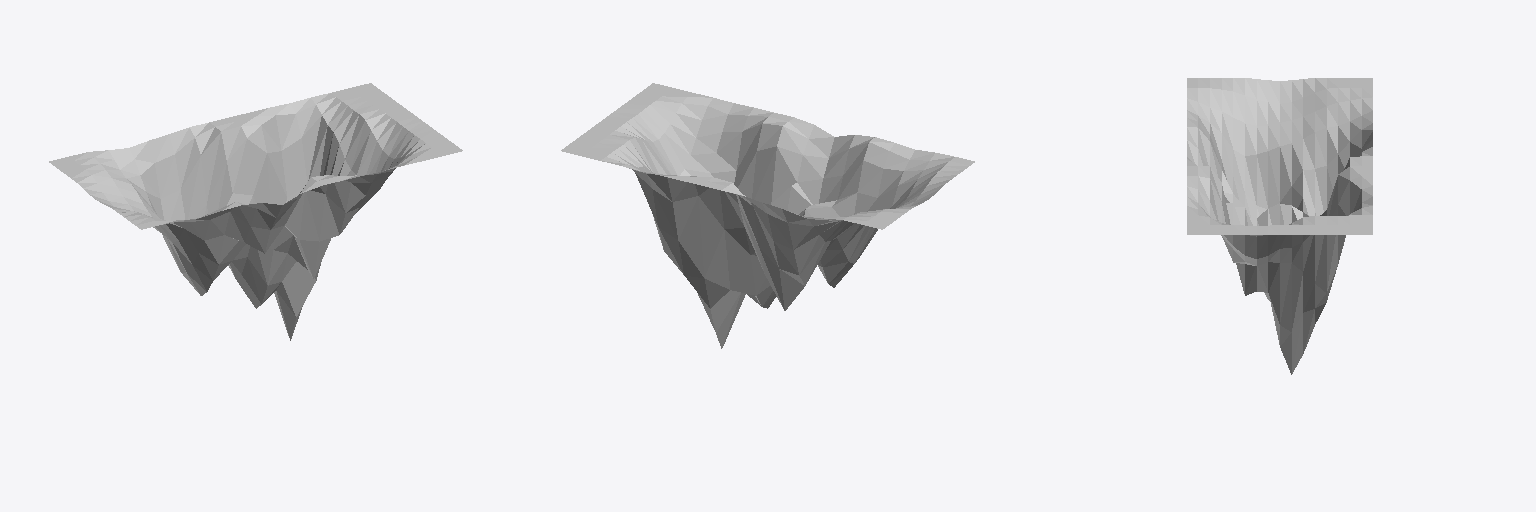
The model's file is landingpadrocks.obj.
The picture shows the model from 3 angles: view 1: azimuth 30°, elevation 25°; view 2: azimuth 150°, elevation 25°; view 3: azimuth 270°, elevation 25°; orthographic projection.
Visible parts, largest first — view 1: Plane; view 2: Plane; view 3: Plane.
Boxes of the visible parts, x1,y1,x2,y2 form: Plane: [49, 83, 462, 340]; Plane: [561, 83, 974, 348]; Plane: [1187, 78, 1372, 374].
Size of the model in its own units: 16 by 9.43 by 8.